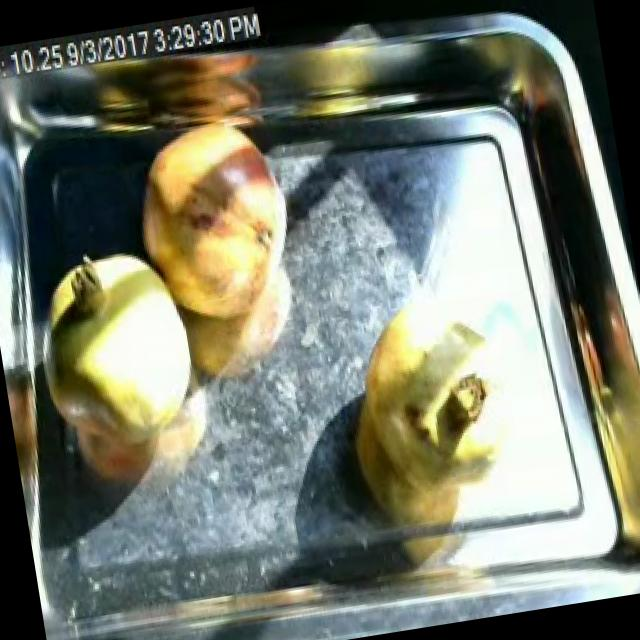fruit: (18, 230, 225, 478), (120, 108, 306, 336), (342, 282, 528, 510)
